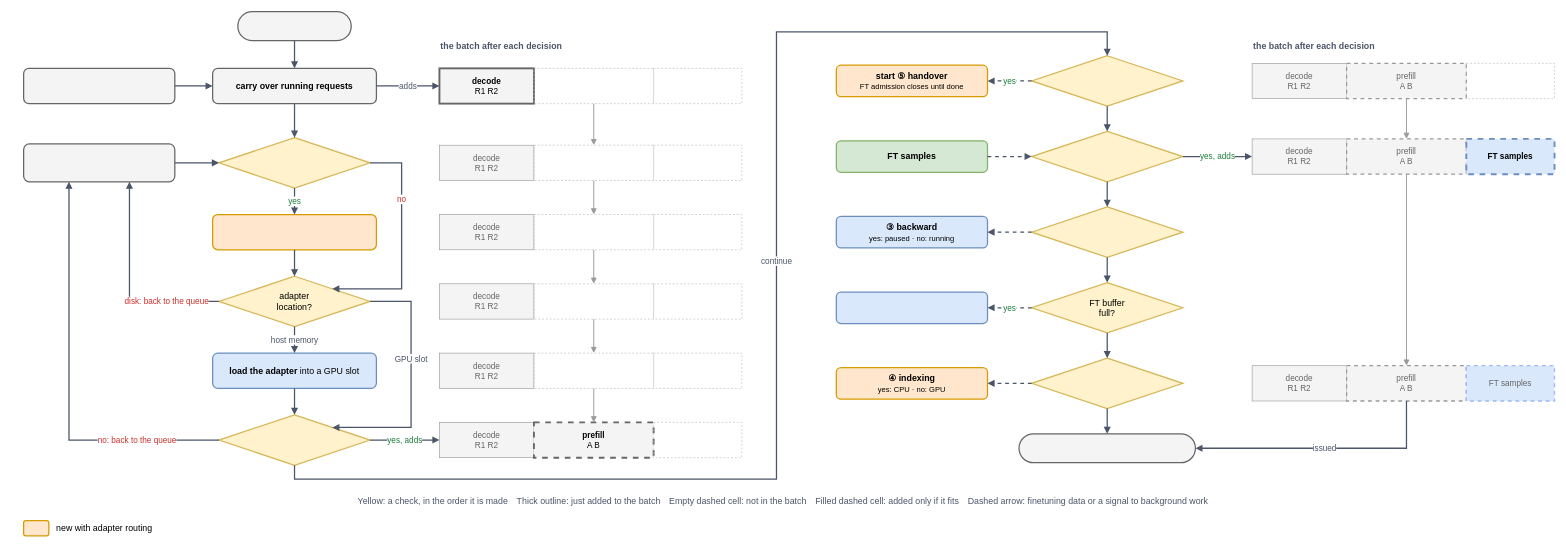
Some shapes in this 1566 by 548 pixel diagram are drawn without their labels. Here are the shapes that lost their labels. From the top down, the centre of each, then its label:
[294,26]: next step
[99,85]: running requests R1 · R2
[1107,80]: job finished training?
[99,162]: request queue A named · B, C routed
[294,162]: routed requests in the queue?
[1107,156]: FT admission open, SLO slack left?
[294,232]: ① encode , pick the adapter
[1107,232]: encode or prefill in this step?
[911,307]: trigger ③ backward
[1107,383]: any inference request present?
[294,440]: fits in this batch?
[1107,448]: issue ② forward engine batch
